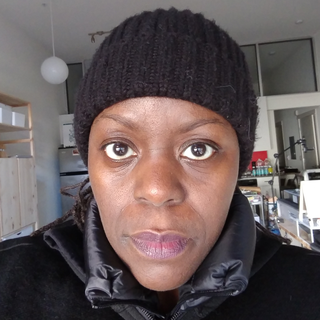eye: (177, 138, 221, 166), (101, 138, 142, 165)
